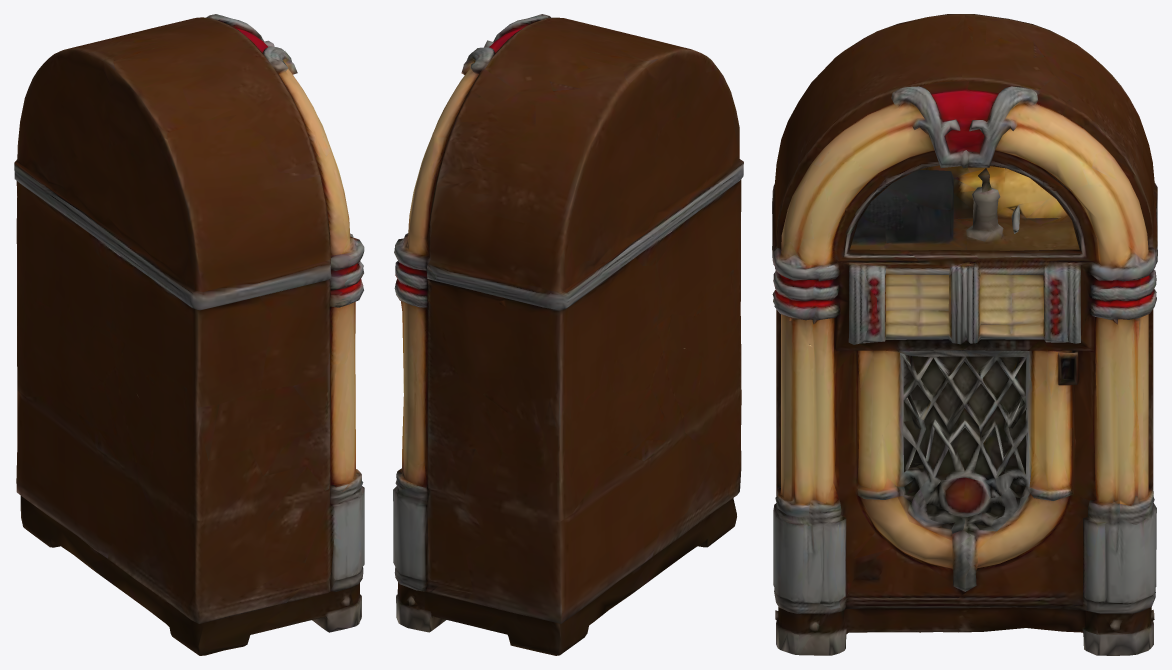
File: jukebox.glb
3 renders of one model, left to right at view 1: azimuth 30°, elevation 25°; view 2: azimuth 150°, elevation 25°; view 3: azimuth 270°, elevation 25°, orthographic. The views are drawn at different scales.
Parts seen in each view (by area): view 1: tripo_node_6ff5871c-3b57-4e1e-a6f1-b06f4f705177; view 2: tripo_node_6ff5871c-3b57-4e1e-a6f1-b06f4f705177; view 3: tripo_node_6ff5871c-3b57-4e1e-a6f1-b06f4f705177.
Boxes of the visible parts, bbox=[...] form: tripo_node_6ff5871c-3b57-4e1e-a6f1-b06f4f705177: bbox=[14, 14, 364, 655]; tripo_node_6ff5871c-3b57-4e1e-a6f1-b06f4f705177: bbox=[393, 14, 743, 655]; tripo_node_6ff5871c-3b57-4e1e-a6f1-b06f4f705177: bbox=[772, 14, 1157, 655].
Size of the model in its own units: 0.3626 by 1 by 0.6281.
1 material, 1 textured.
